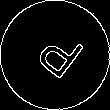P_SW: (25, 24, 85, 86)
